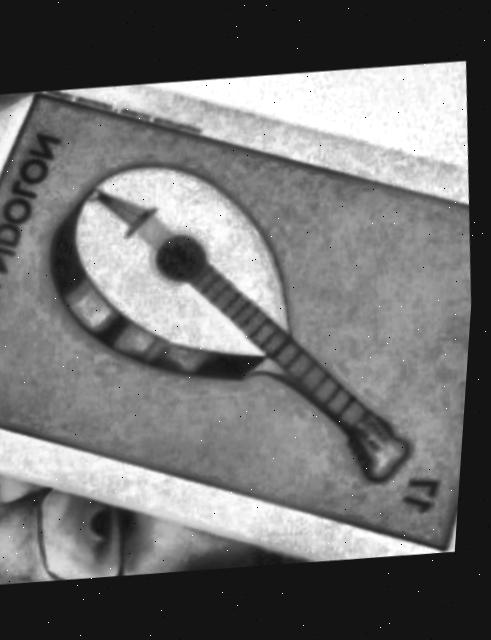El Bandolon: (0, 93, 475, 545)
